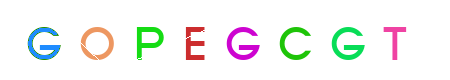C: (186, 0, 266, 80)
E: (162, 0, 242, 80)
G: (3, 0, 83, 80), (172, 0, 252, 80), (251, 0, 331, 80)
O: (64, 0, 144, 80)
P: (153, 0, 233, 80)
T: (305, 0, 385, 80)
